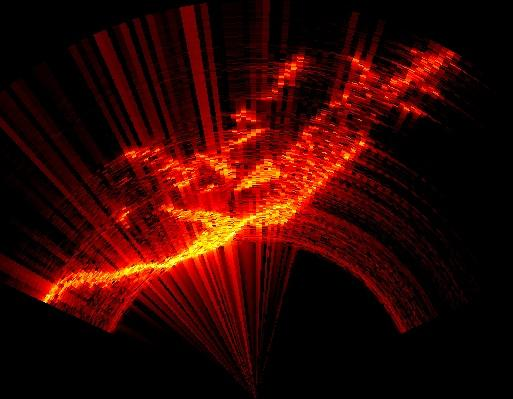shipwreck: (49, 54, 454, 302)
